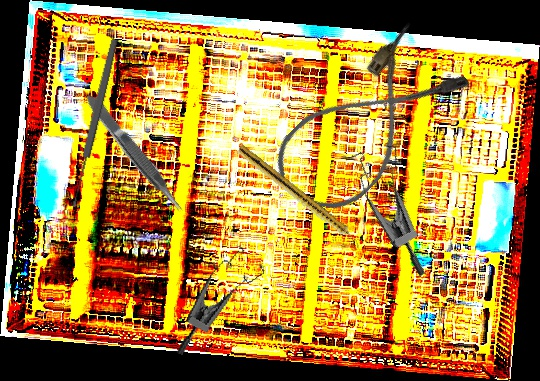Cannula: (260, 18, 475, 230)
Handpiece: (234, 144, 366, 251)
Speculum: (331, 130, 471, 279), (175, 237, 270, 372)
Surgical Spoon: (68, 38, 120, 208)
Tissue Forceps: (82, 89, 189, 218)
